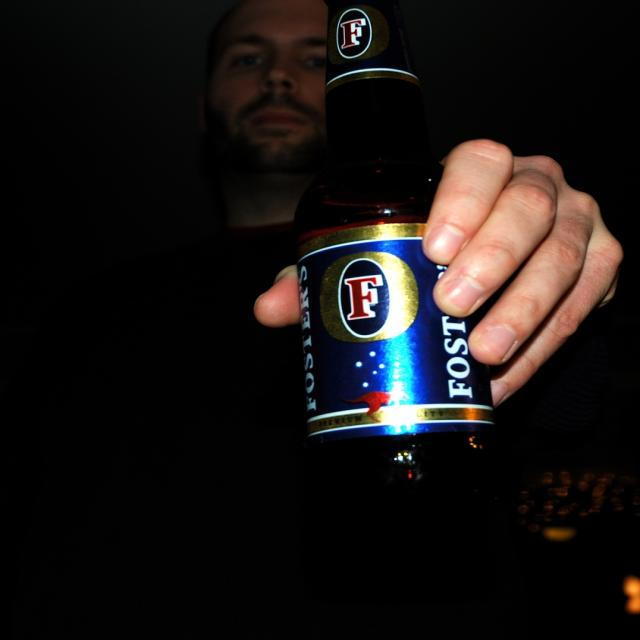fosters: (317, 250, 423, 345)
